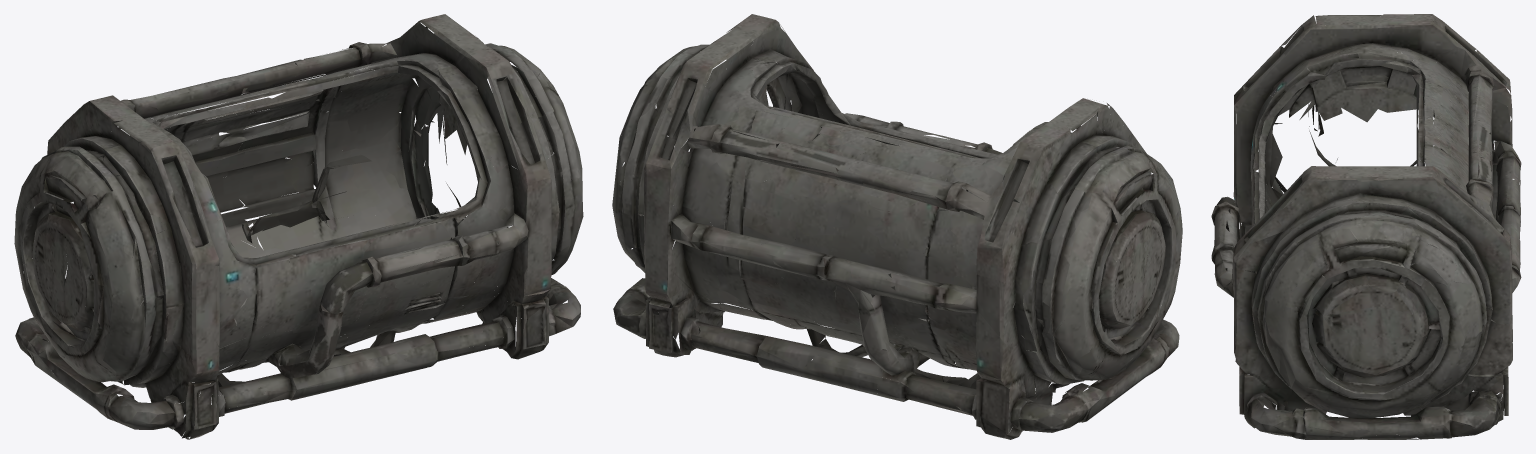
File: decor.stasis_pod.glb
The picture shows the model from 3 angles, left to right: view 1: azimuth 30°, elevation 25°; view 2: azimuth 150°, elevation 25°; view 3: azimuth 270°, elevation 25°; orthographic projection. The views are drawn at different scales.
Parts seen in each view (by area): view 1: body; view 2: body; view 3: body.
Part boxes in pixels (x1=…): body: x1=14, y1=14, x2=583, y2=439; body: x1=612, y1=14, x2=1182, y2=439; body: x1=1211, y1=14, x2=1521, y2=439.
Size of the model in its own units: 3.98 by 2.15 by 2.37.
1 material, 1 textured.
